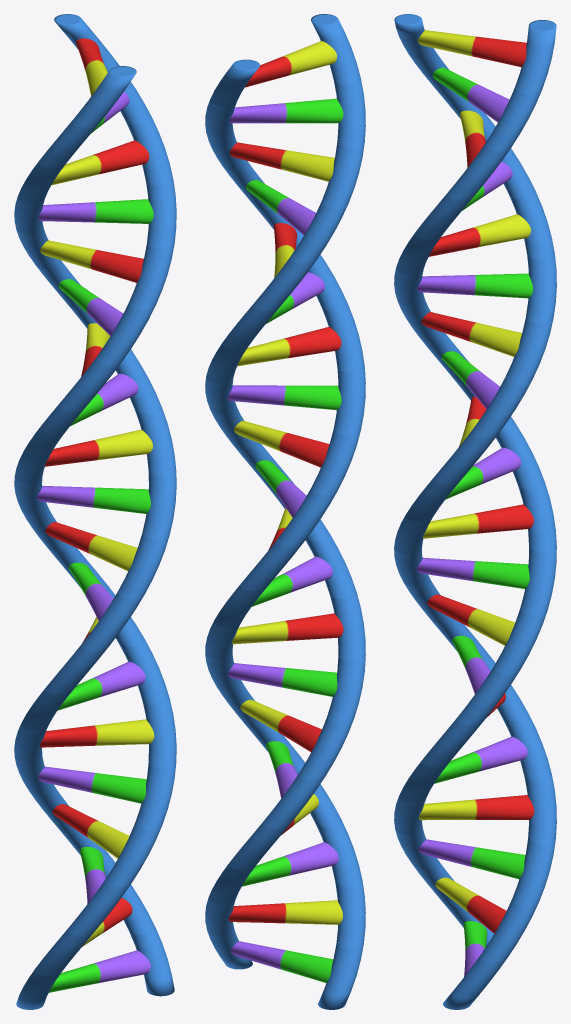
The model's file is dna.glb.
The picture shows the model from 3 angles, left to right: view 1: azimuth 30°, elevation 25°; view 2: azimuth 150°, elevation 25°; view 3: azimuth 270°, elevation 25°; orthographic projection.
Visible parts, largest first — view 1: DNA; view 2: DNA; view 3: DNA.
Boxes of the visible parts, x1,y1,x2,y2 form: DNA: (14, 14, 176, 1009); DNA: (205, 14, 365, 1009); DNA: (394, 14, 556, 1009).
Bounding box in the file's own units: 619 × 4000 × 619.
Materials: 1 (1 with a texture image).
